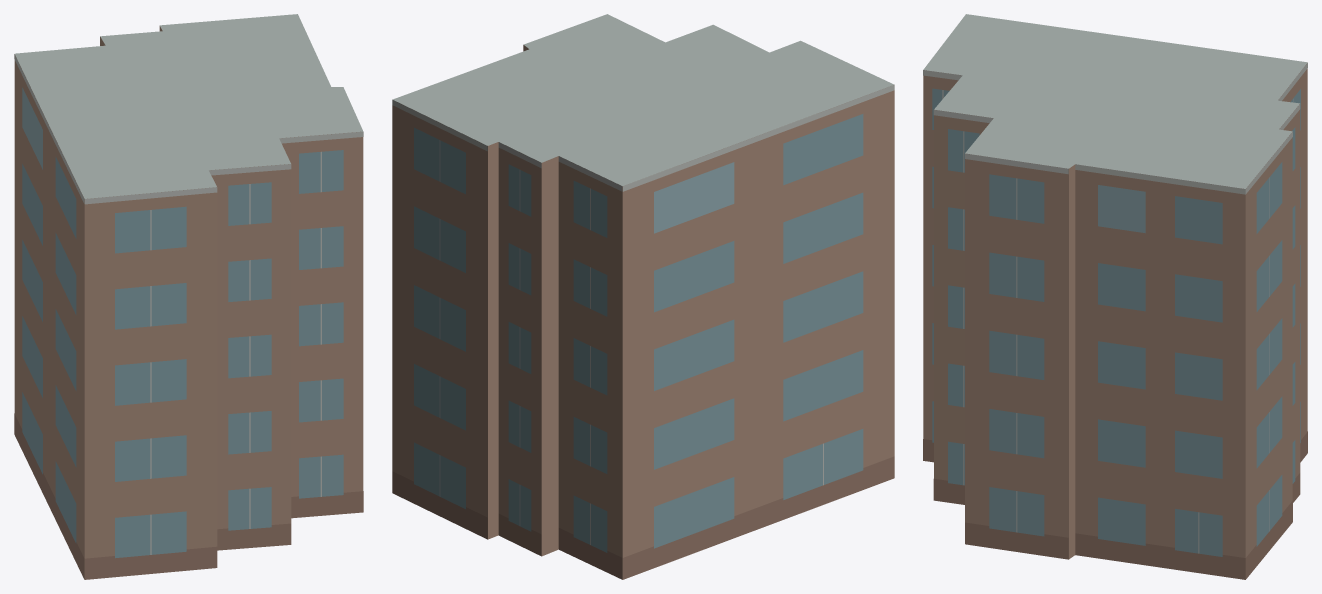
The model's file is survey-upis-32627729.glb.
3 renders of one model, left to right at view 1: azimuth 30°, elevation 25°; view 2: azimuth 150°, elevation 25°; view 3: azimuth 270°, elevation 25°, orthographic. The views are drawn at different scales.
Visible parts, largest first — view 1: survey-upis-32627729.tmp; view 2: survey-upis-32627729.tmp; view 3: survey-upis-32627729.tmp.
Part boxes in pixels (x1,y1,x2,y2): survey-upis-32627729.tmp: (14,14,363,579); survey-upis-32627729.tmp: (392,14,894,579); survey-upis-32627729.tmp: (923,14,1307,579).
Bounding box in the file's own units: 16.43 × 17.1 × 15.26.
